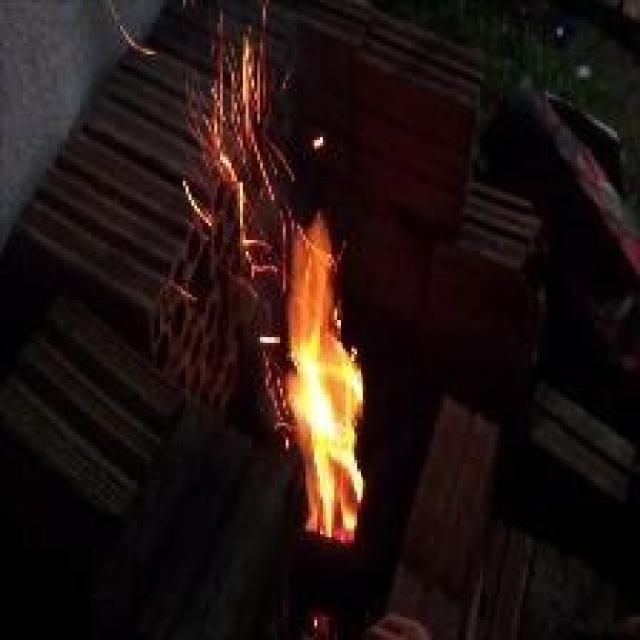fire: (238, 61, 382, 584)
